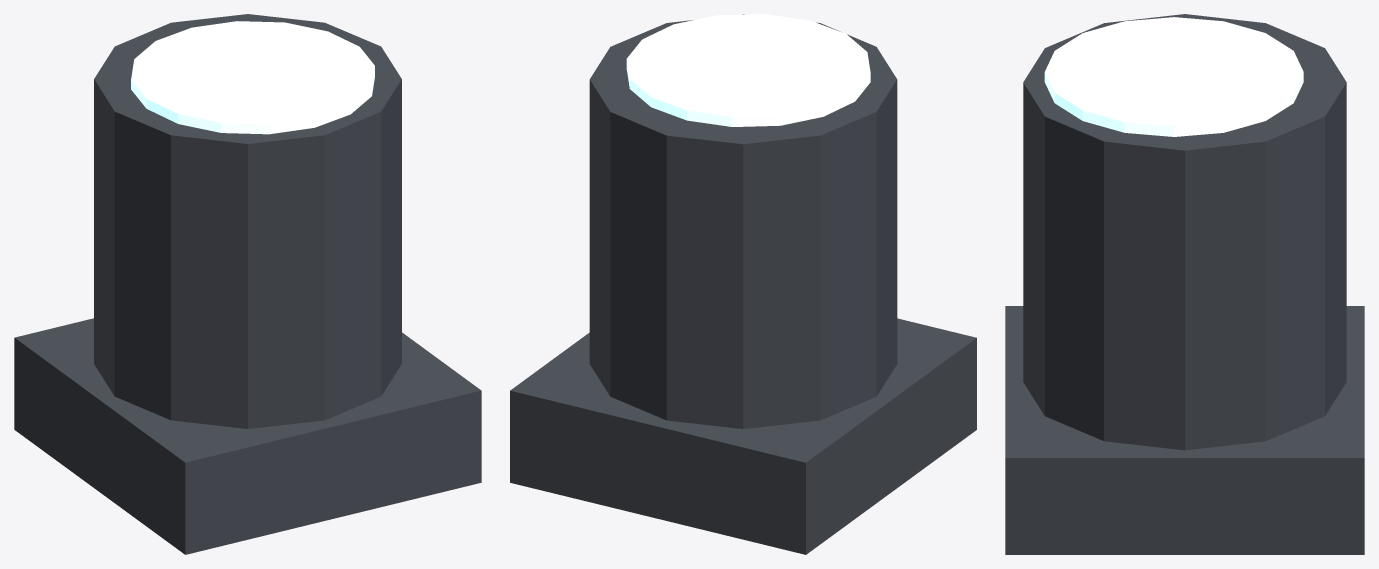
The model's file is lighting-uplight-set.glb.
The picture shows the model from 3 angles, left to right: view 1: azimuth 30°, elevation 25°; view 2: azimuth 150°, elevation 25°; view 3: azimuth 270°, elevation 25°; orthographic projection. The views are drawn at different scales.
Parts seen in each view (by area): view 1: BS_UplightFixture, BS_UplightBase, BS_UplightLens; view 2: BS_UplightFixture, BS_UplightBase, BS_UplightLens; view 3: BS_UplightFixture, BS_UplightBase, BS_UplightLens.
Boxes of the visible parts, x1,y1,x2,y2 form: BS_UplightFixture: [94, 14, 401, 428]; BS_UplightBase: [14, 318, 481, 554]; BS_UplightLens: [131, 21, 374, 134]; BS_UplightFixture: [589, 14, 897, 428]; BS_UplightBase: [510, 318, 976, 554]; BS_UplightLens: [626, 14, 870, 126]; BS_UplightFixture: [1023, 14, 1346, 450]; BS_UplightBase: [1005, 306, 1364, 554]; BS_UplightLens: [1044, 17, 1303, 136].
Bounding box in the file's own units: 0.2 × 0.25 × 0.2.
